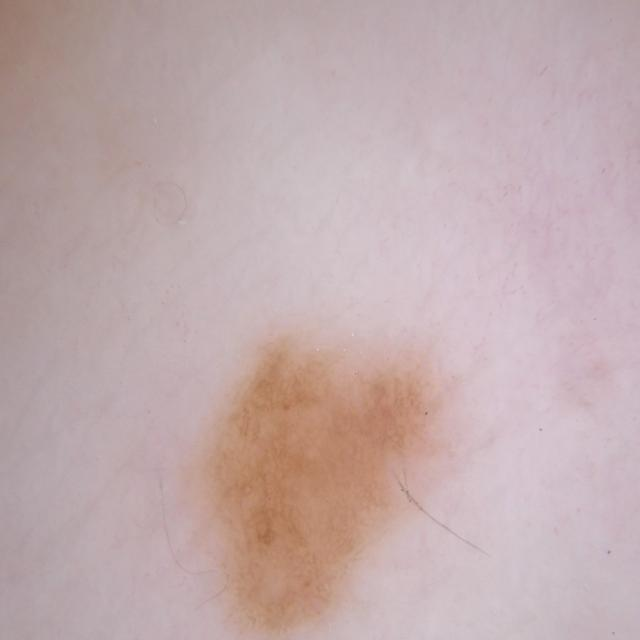Melanoma: (166, 268, 479, 640)
